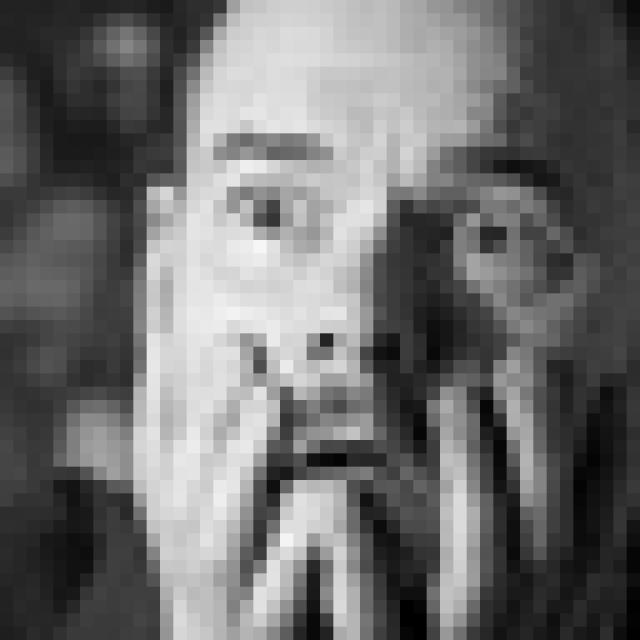fear: (203, 126, 602, 549)
